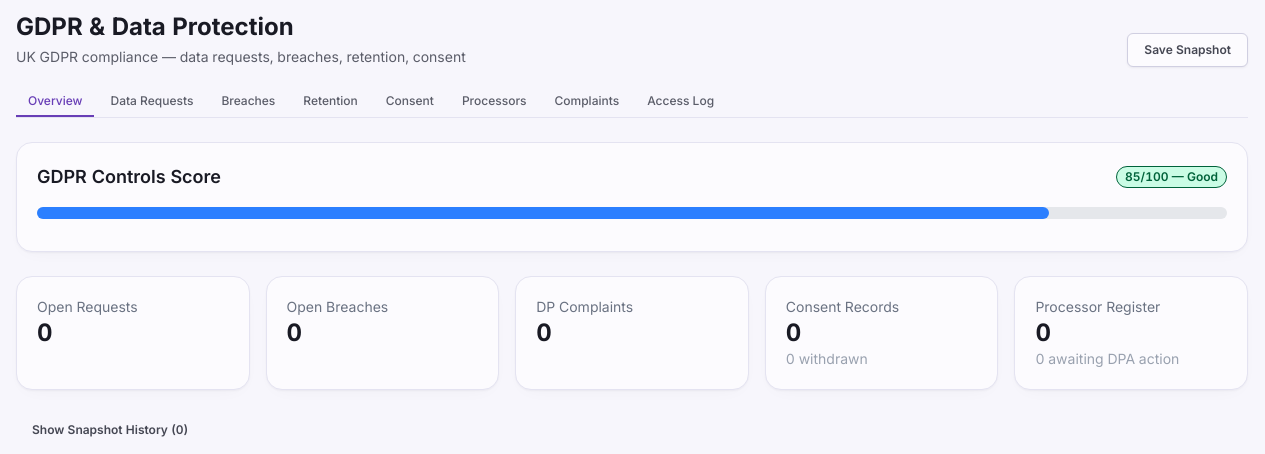
Scenario: GdprDashboard › shows data breaches empty state on Breaches tab
This screenshot has width=1265, height=454.
Click the tab "Breaches": point(248, 102) [209,87,287,117]
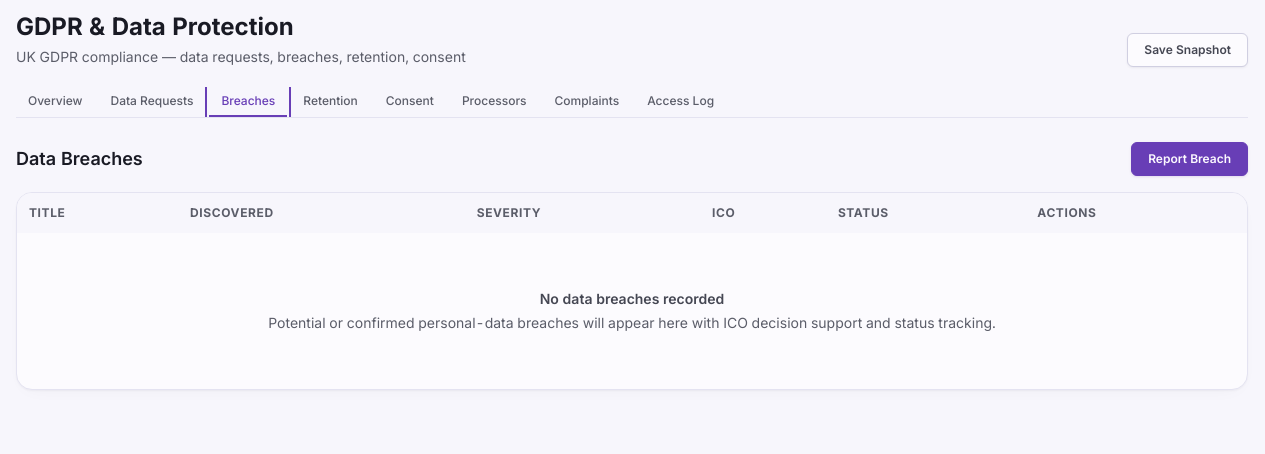
Expected: the text "No data breaches recorded" is shown, [540,290,724,307]
